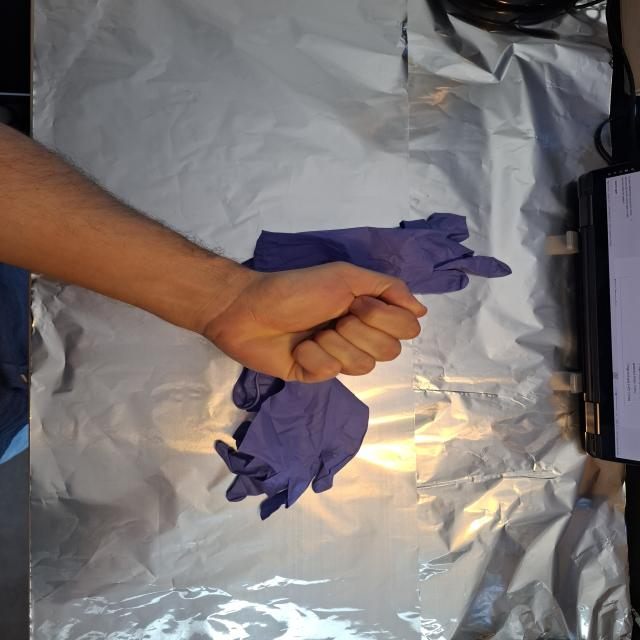glove_off: (188, 258, 432, 385)
